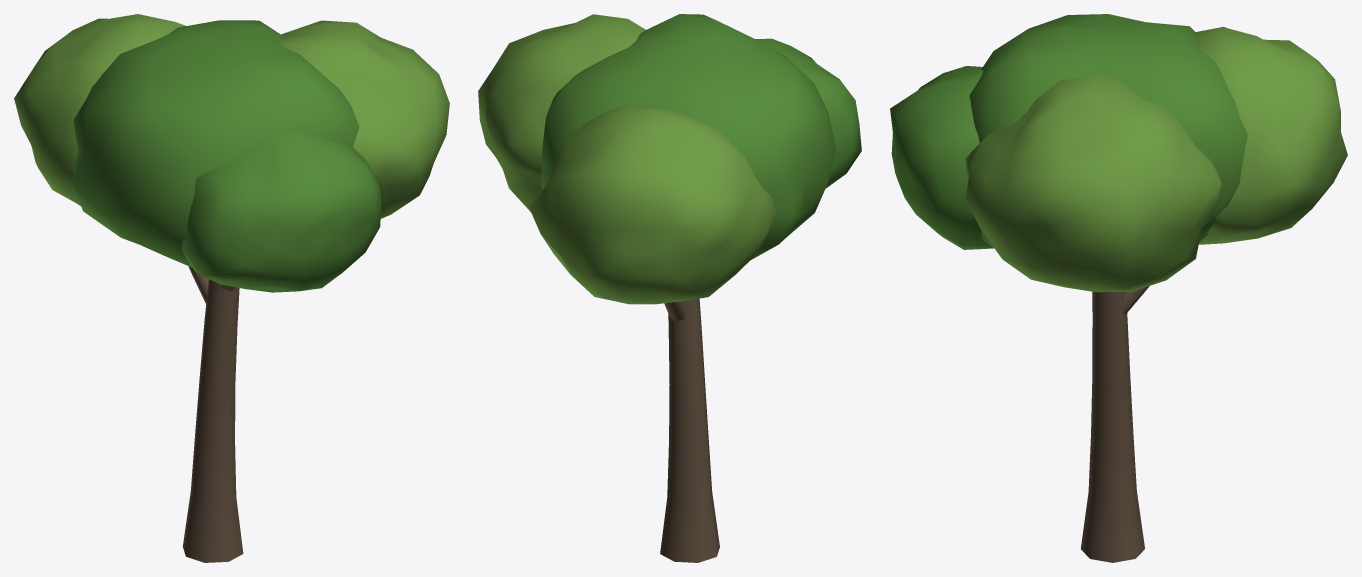
Rendered from oak_2.glb.
The picture shows the model from 3 angles, left to right: view 1: azimuth 30°, elevation 25°; view 2: azimuth 150°, elevation 25°; view 3: azimuth 270°, elevation 25°; orthographic projection. The views are drawn at different scales.
Visible parts, largest first — view 1: oak_2; view 2: oak_2; view 3: oak_2.
Boxes of the visible parts, x1=… form: oak_2: x1=14, y1=14, x2=449, y2=562; oak_2: x1=478, y1=14, x2=861, y2=562; oak_2: x1=890, y1=14, x2=1347, y2=562.
Size of the model in its own units: 5.41 by 7.81 by 6.26.
